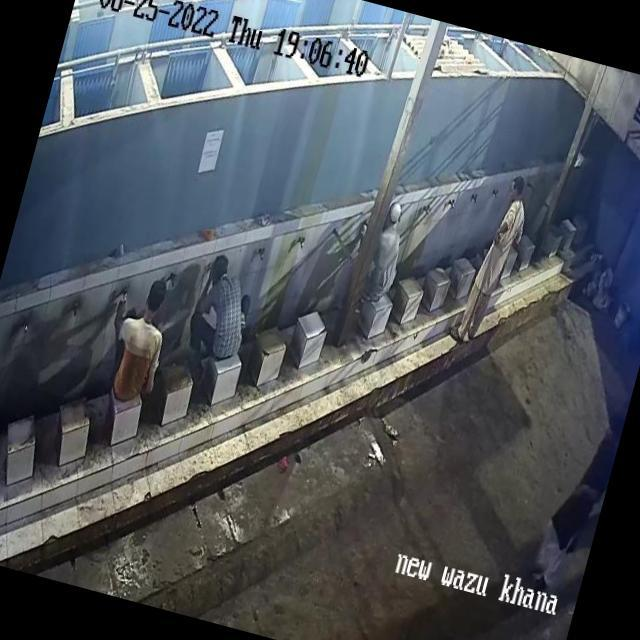person: (456, 171, 530, 355), (105, 280, 182, 406), (180, 254, 262, 361), (366, 196, 418, 306)
